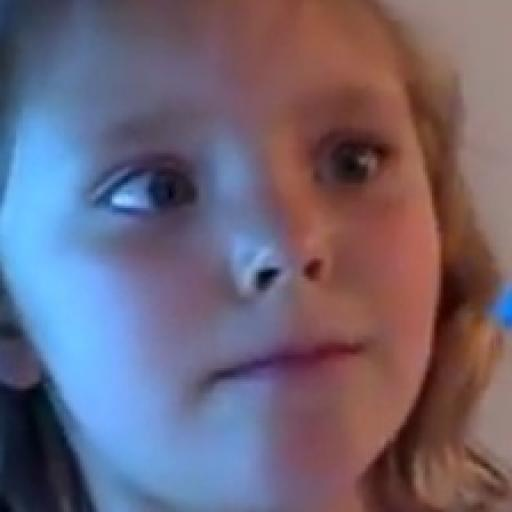Autism: (0, 0, 465, 512)
